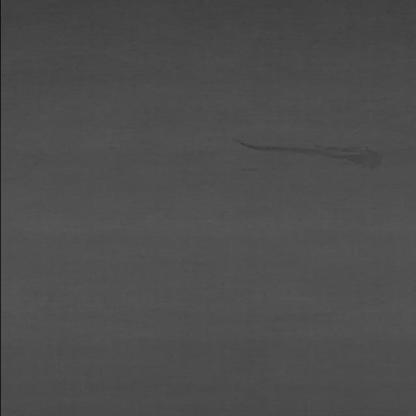water_spot: (230, 123, 388, 175)
